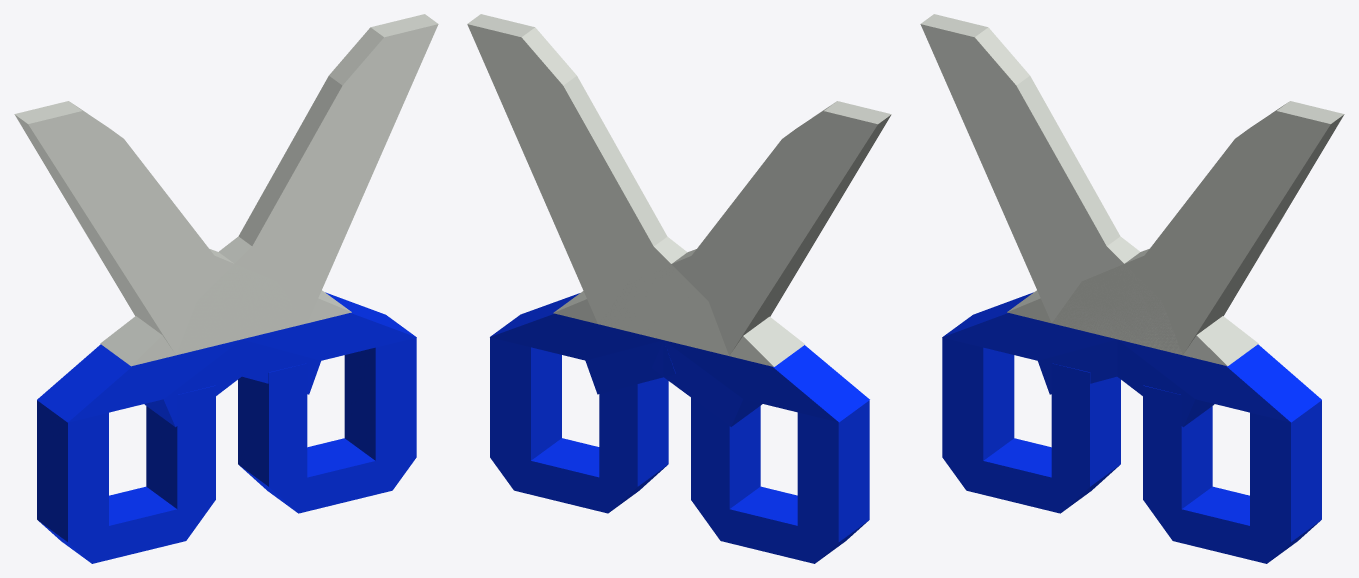
The model's file is shears.gltf.
The picture shows the model from 3 angles, left to right: view 1: azimuth 30°, elevation 25°; view 2: azimuth 150°, elevation 25°; view 3: azimuth 330°, elevation 25°; orthographic projection.
Parts seen in each view (by area): view 1: Cube.002; view 2: Cube.002; view 3: Cube.002.
Part boxes in pixels (x1,y1,x2,y2): Cube.002: (14, 14, 438, 563); Cube.002: (467, 14, 891, 563); Cube.002: (920, 14, 1344, 563).
Bounding box in the file's own units: 2.14 × 2.23 × 0.2865.
